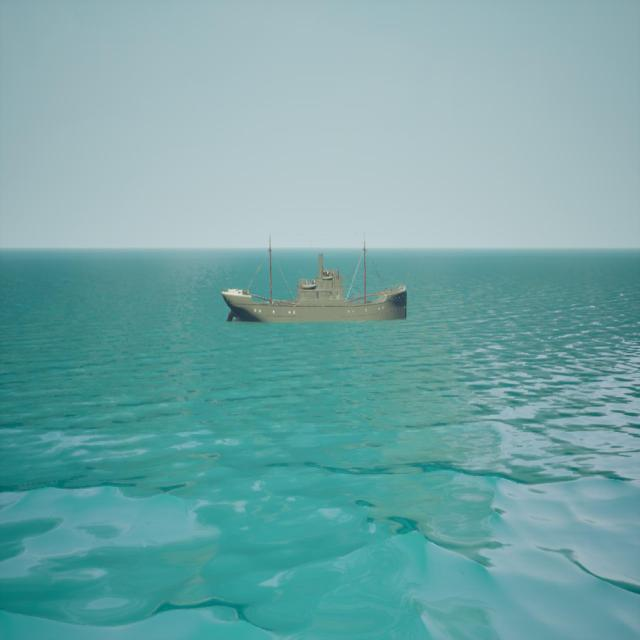fishing ship: (224, 237, 408, 324)
